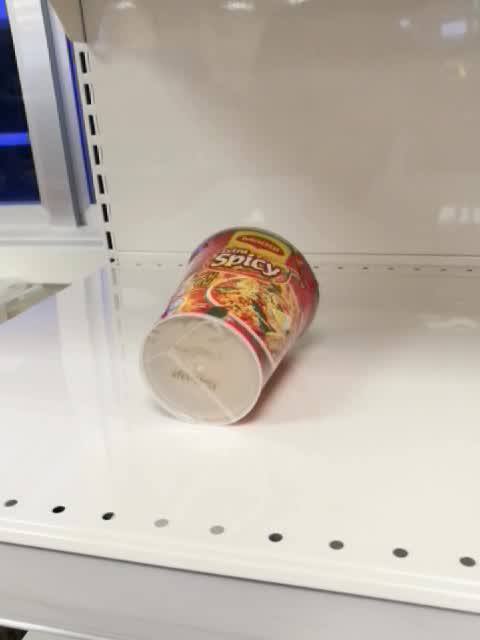maggi: (139, 227, 321, 427)
